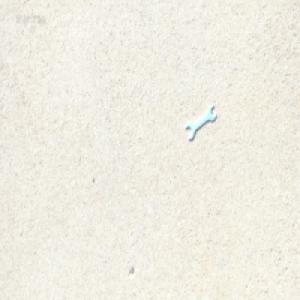Wrench: (184, 104, 215, 139)
